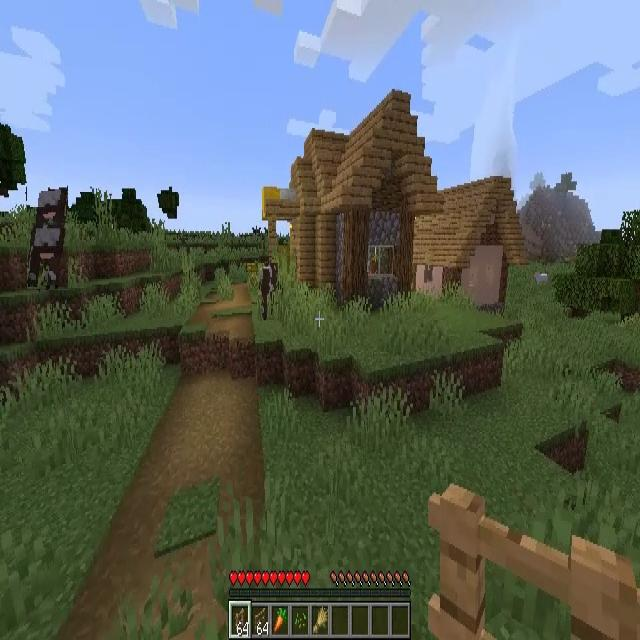cow: (27, 186, 68, 290), (258, 263, 278, 321)
sheep: (535, 271, 548, 286)
